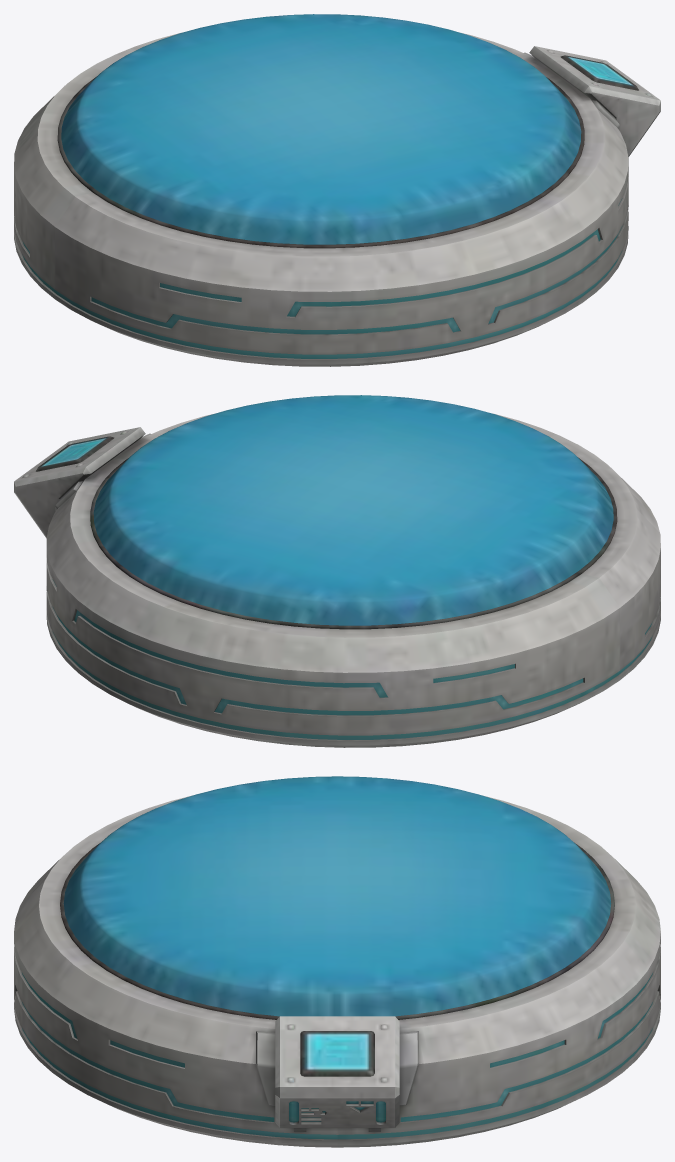
The model's file is SM_PalBedAncient_86fdd7.glb.
3 views of the same model, one above another, from view 1: azimuth 30°, elevation 25°; view 2: azimuth 150°, elevation 25°; view 3: azimuth 270°, elevation 25° (orthographic). The views are drawn at different scales.
Bounding box in the file's own units: 5.65 × 1.29 × 5.2.
1 material, 1 textured.
